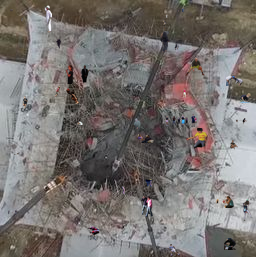Human: (140, 195, 165, 217), (106, 118, 141, 133), (117, 179, 152, 194), (63, 65, 90, 84), (160, 31, 183, 53), (186, 128, 209, 149), (54, 86, 79, 104), (185, 55, 205, 76), (165, 114, 197, 127), (242, 199, 255, 221), (43, 5, 52, 33), (216, 196, 234, 208), (87, 226, 100, 241), (135, 134, 154, 143), (226, 76, 243, 86), (166, 244, 180, 256), (224, 238, 236, 250), (238, 93, 251, 103), (161, 18, 169, 30), (22, 96, 28, 110), (230, 140, 238, 150), (236, 118, 247, 125), (182, 88, 187, 98), (56, 39, 61, 49), (8, 210, 17, 215), (177, 8, 184, 14), (77, 120, 83, 125), (21, 17, 23, 23), (166, 14, 168, 19), (14, 153, 19, 155), (10, 9, 13, 12)
